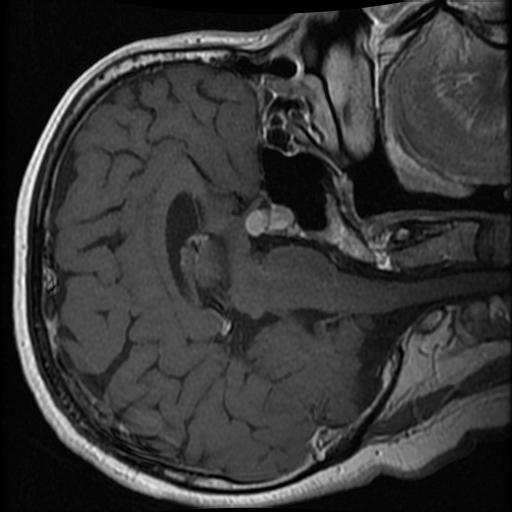pituitary tumour: (246, 207, 294, 233)
